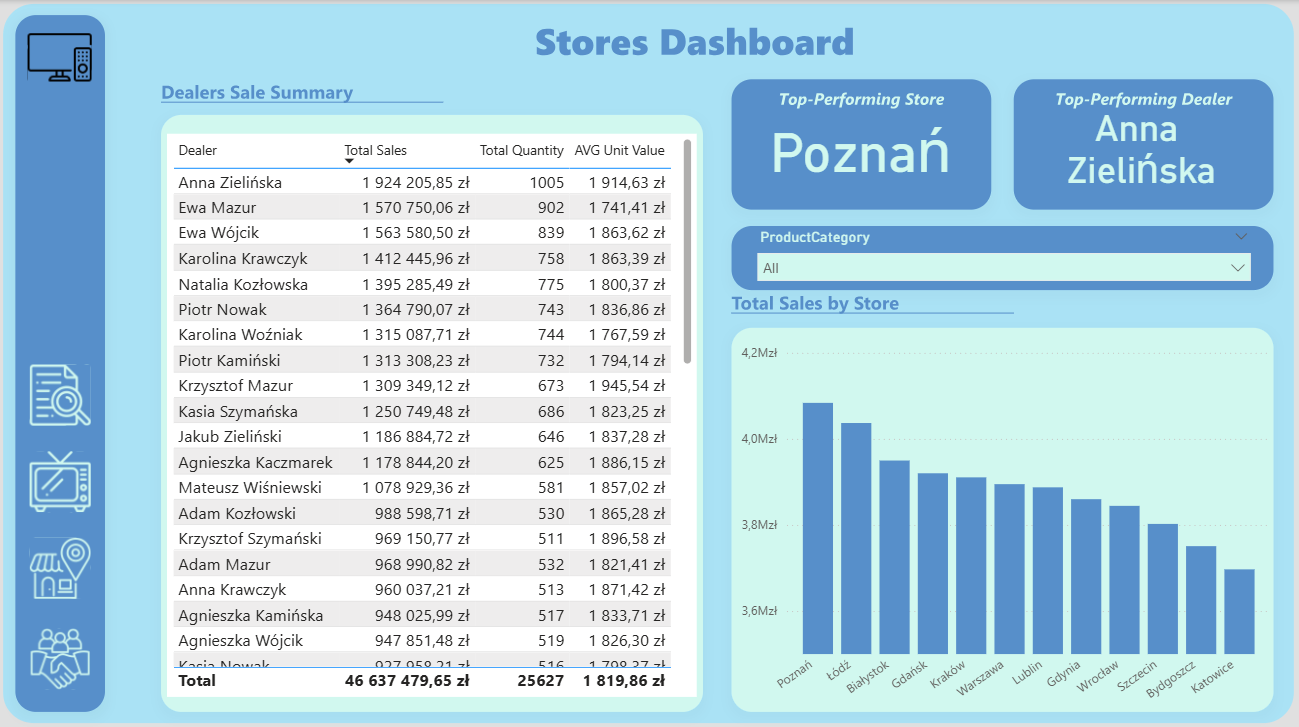

Layout of this report page (visuals, bound fields, positions):
{"tool":"powerbi","page":{"name":"Stores Dashboard","canvas":[1280,720],"ordinal":3},"visuals":[{"type":"clusteredColumnChart","fields":{"Y":["_Measures.Total Sales"],"Category":["Dim_Stores.StoreCity_Canonical"]},"box":[725.7,332.9,530,375.7],"z":0},{"type":"tableEx","fields":{"Values":["Dim_Salesreps.Dealer","_Measures.Total Sales","_Measures.Total Quantity","_Measures.AVG Total Sales"]},"box":[167.1,131.4,520,552.9],"z":1000},{"type":"card","fields":{"Values":["_Measures.Top Performing Store"]},"box":[725.7,88.6,245.7,108.6],"z":2000},{"type":"card","fields":{"Values":["_Measures.Top Performing Dealer"]},"box":[1001.4,88.6,244.3,108.6],"z":3000},{"type":"slicer","fields":{"Values":["Dim_Products.ProductCategory"]},"box":[735.7,220,504.3,70],"z":4000},{"type":"actionButton","box":[27.1,360,68.6,65.7],"z":5000},{"type":"actionButton","box":[27.1,441.4,68.6,74.3],"z":6000},{"type":"actionButton","box":[27.1,531.4,68.6,67.1],"z":7000},{"type":"actionButton","box":[27.1,611.4,68.6,68.6],"z":8000},{"type":"actionButton","box":[27.1,27.1,68.6,57.1],"z":9000}]}

Visuals, with their boxes in screenshot pixels (x1, y1, x2, y2), scaled from the page's 1280x720 canvas onto the 1299x727 screenshot:
clusteredColumnChart - _Measures.Total Sales x Dim_Stores.StoreCity_Canonical: <bbox>736, 336, 1274, 715</bbox>
tableEx - Dim_Salesreps.Dealer x _Measures.Total Sales: <bbox>170, 133, 697, 691</bbox>
card - _Measures.Top Performing Store: <bbox>736, 89, 986, 199</bbox>
card - _Measures.Top Performing Dealer: <bbox>1016, 89, 1264, 199</bbox>
slicer - Dim_Products.ProductCategory: <bbox>747, 222, 1258, 293</bbox>
actionButton: <bbox>28, 364, 97, 430</bbox>
actionButton: <bbox>28, 446, 97, 521</bbox>
actionButton: <bbox>28, 537, 97, 604</bbox>
actionButton: <bbox>28, 617, 97, 687</bbox>
actionButton: <bbox>28, 27, 97, 85</bbox>
